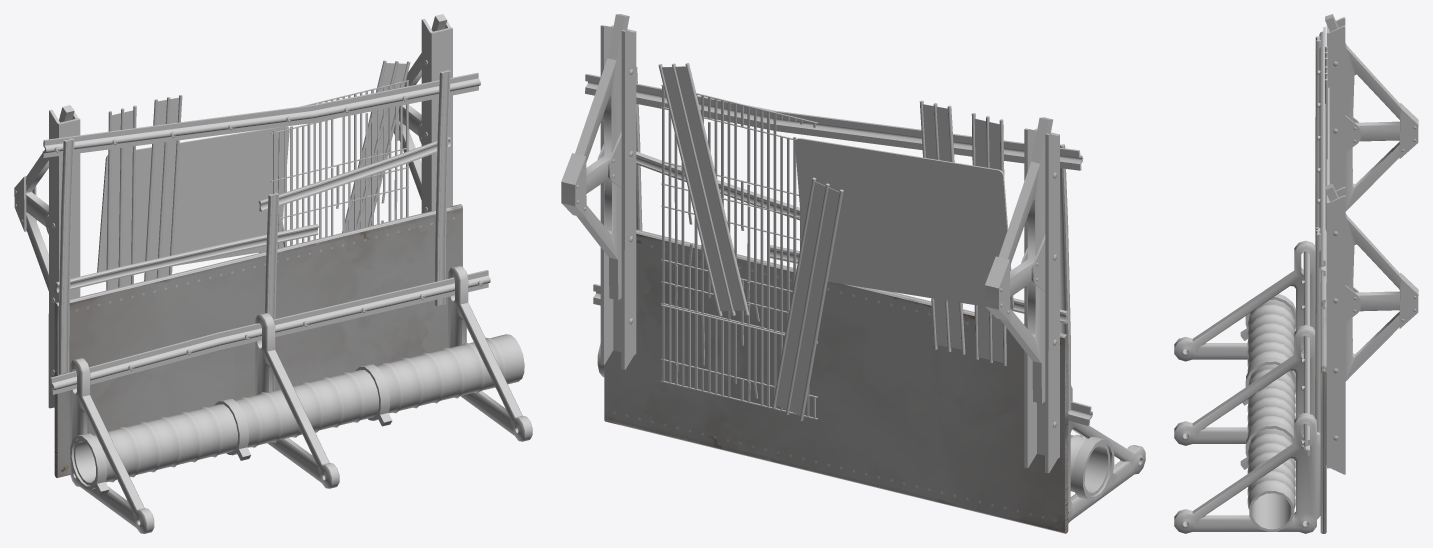
Rendered from HubShelf2.FBX.
The picture shows the model from 3 angles, left to right: view 1: azimuth 30°, elevation 25°; view 2: azimuth 150°, elevation 25°; view 3: azimuth 270°, elevation 25°; orthographic projection. The views are drawn at different scales.
Parts seen in each view (by area): view 1: HubShelf2_LOD0; view 2: HubShelf2_LOD0; view 3: HubShelf2_LOD0.
Boxes of the visible parts, <box> form: HubShelf2_LOD0: <box>14,14,532,533</box>; HubShelf2_LOD0: <box>561,14,1145,533</box>; HubShelf2_LOD0: <box>1174,14,1418,533</box>.
Size of what is drawn, in the model's own units: 14.73 by 11.75 by 7.55.
